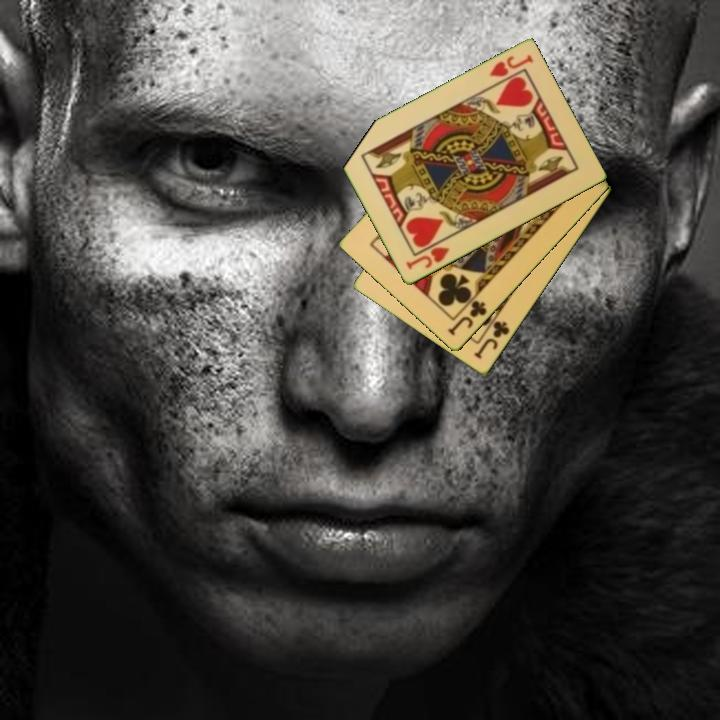Jc: (470, 317, 513, 362), (445, 297, 490, 339)
Jh: (402, 235, 453, 273), (486, 51, 536, 80)
